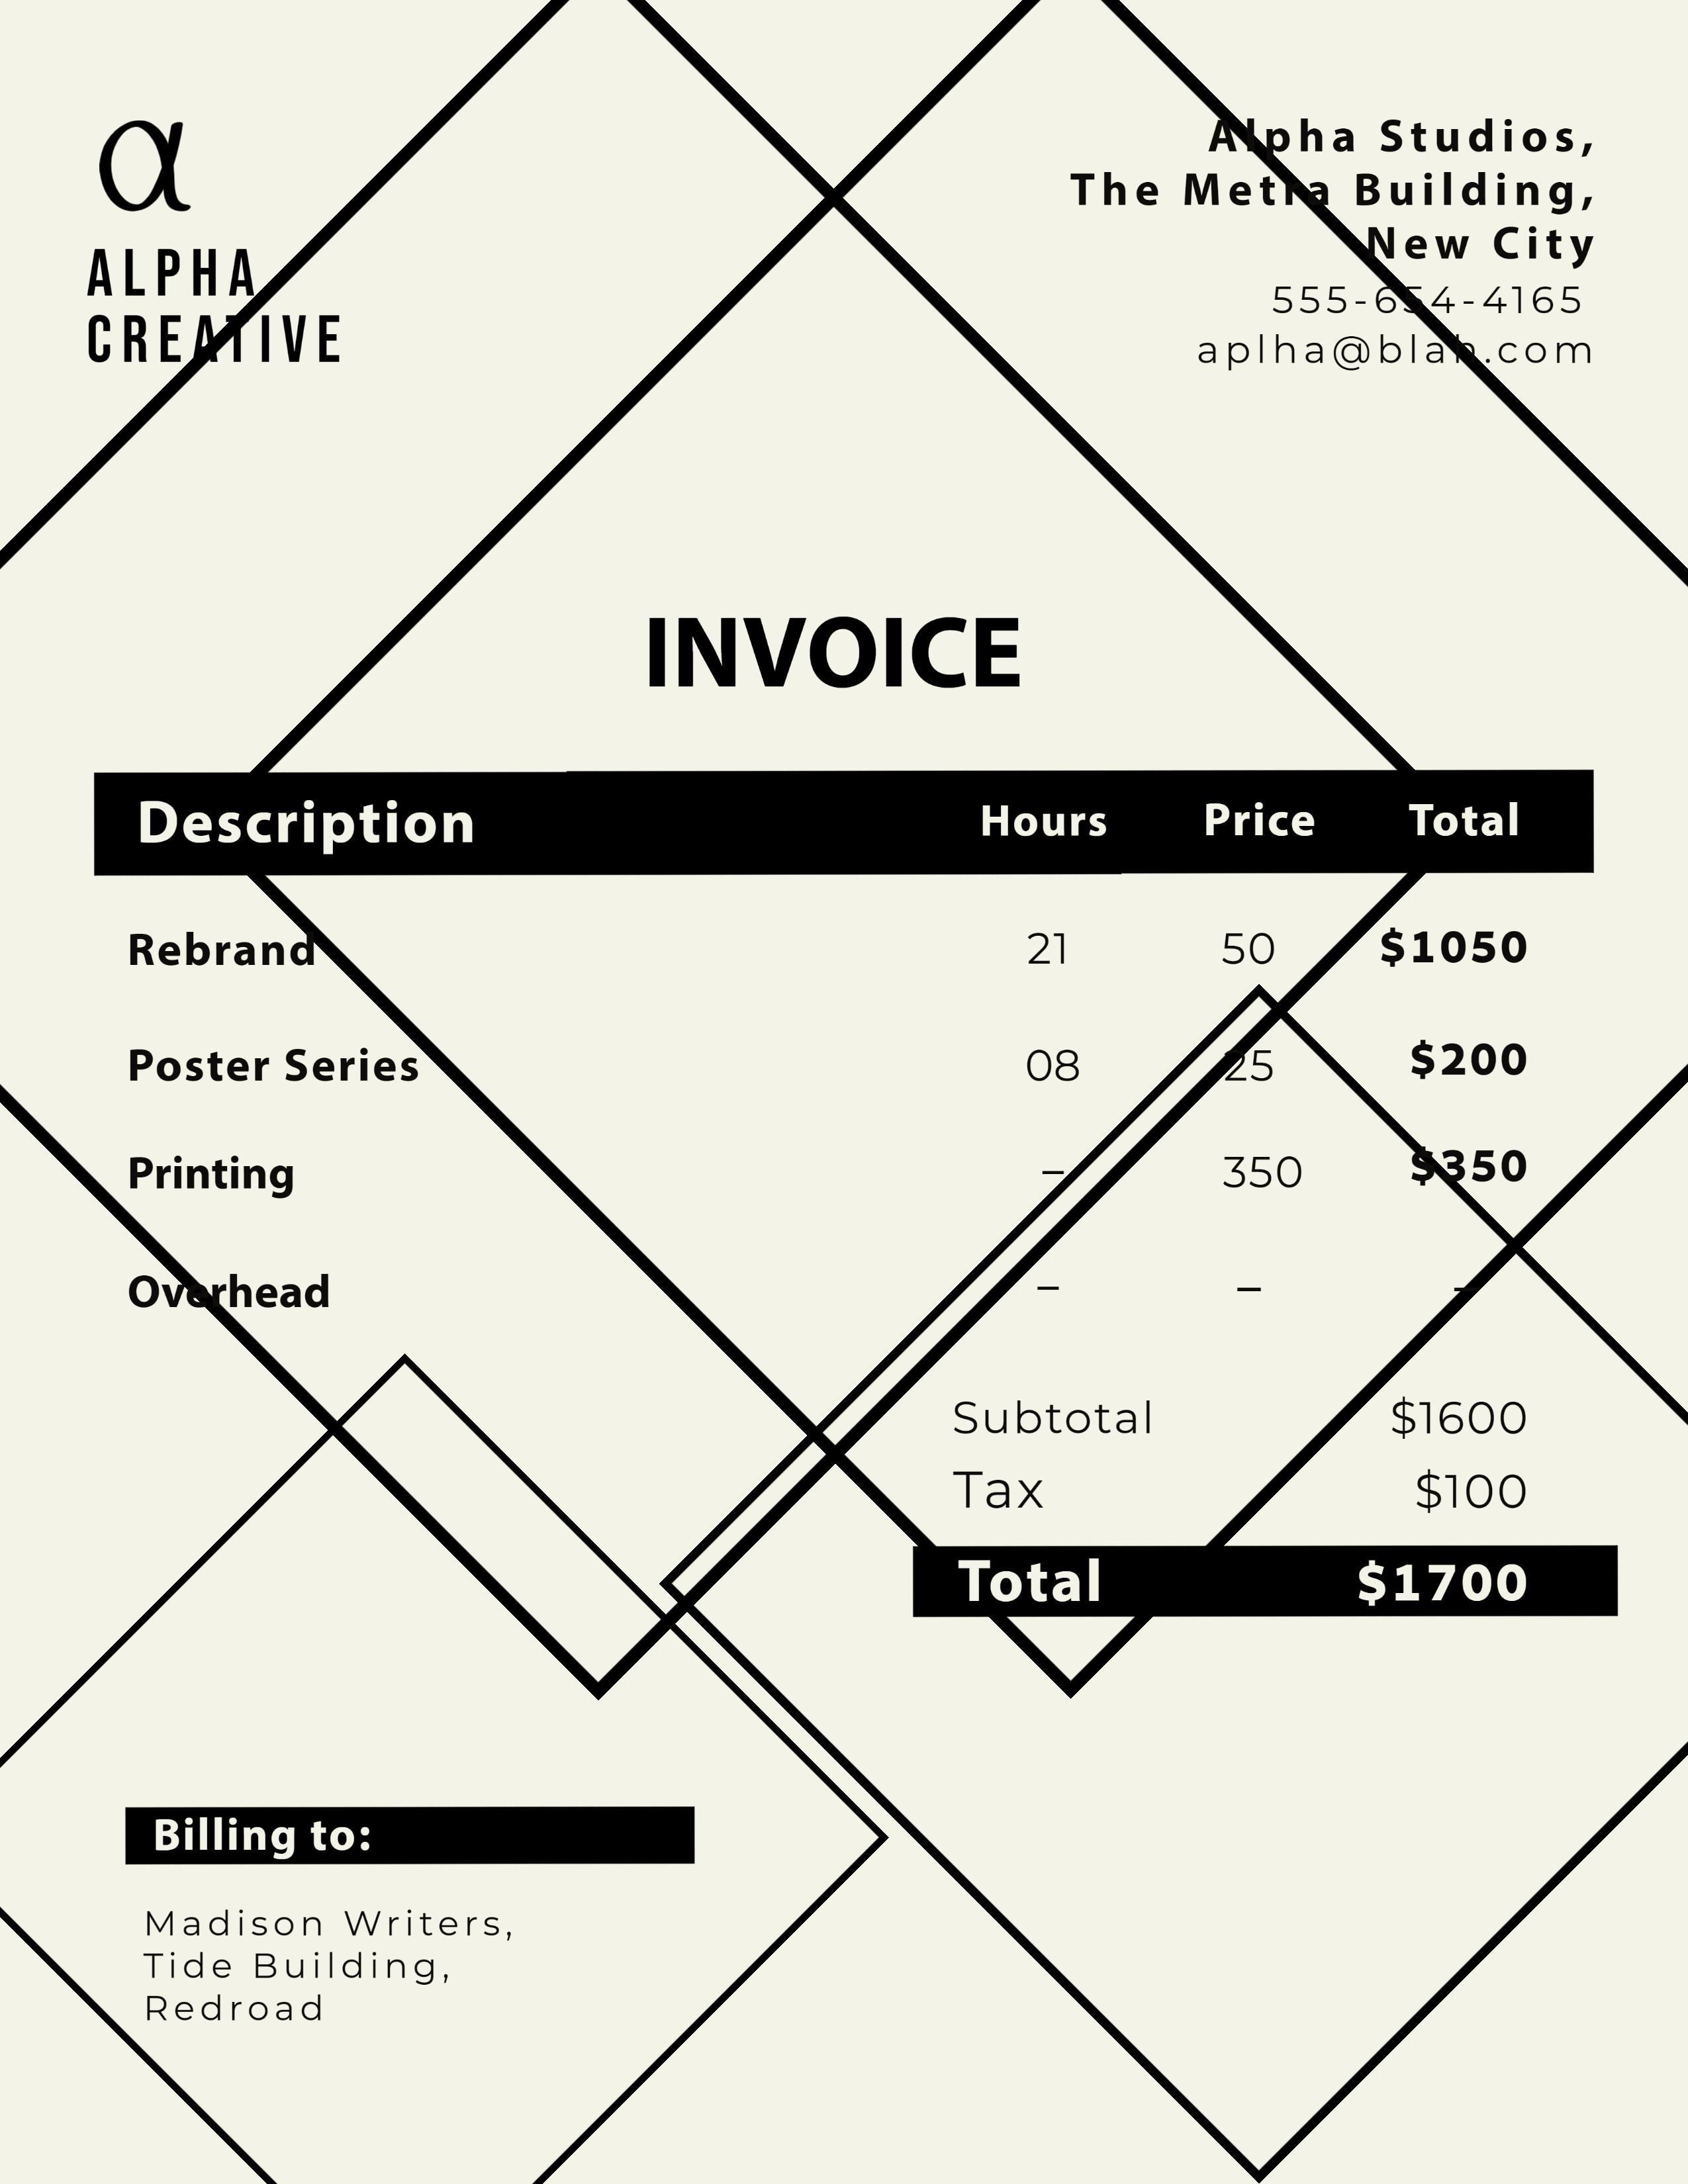ROI: (122, 791, 1556, 1367), (1059, 63, 1618, 404), (940, 1380, 1566, 1615), (129, 1800, 533, 2042)
